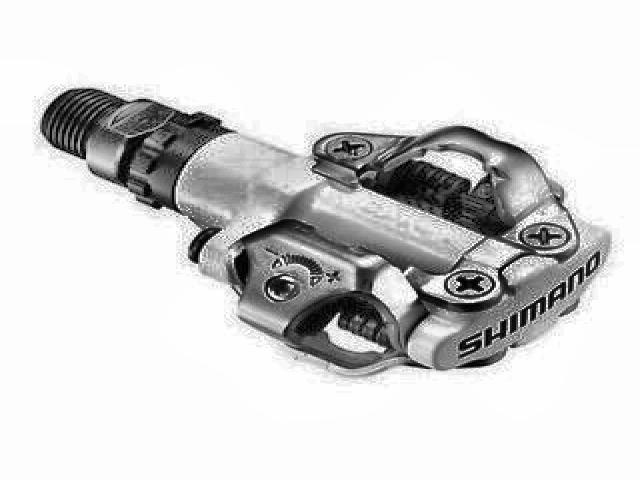pedal: (31, 80, 615, 381)
